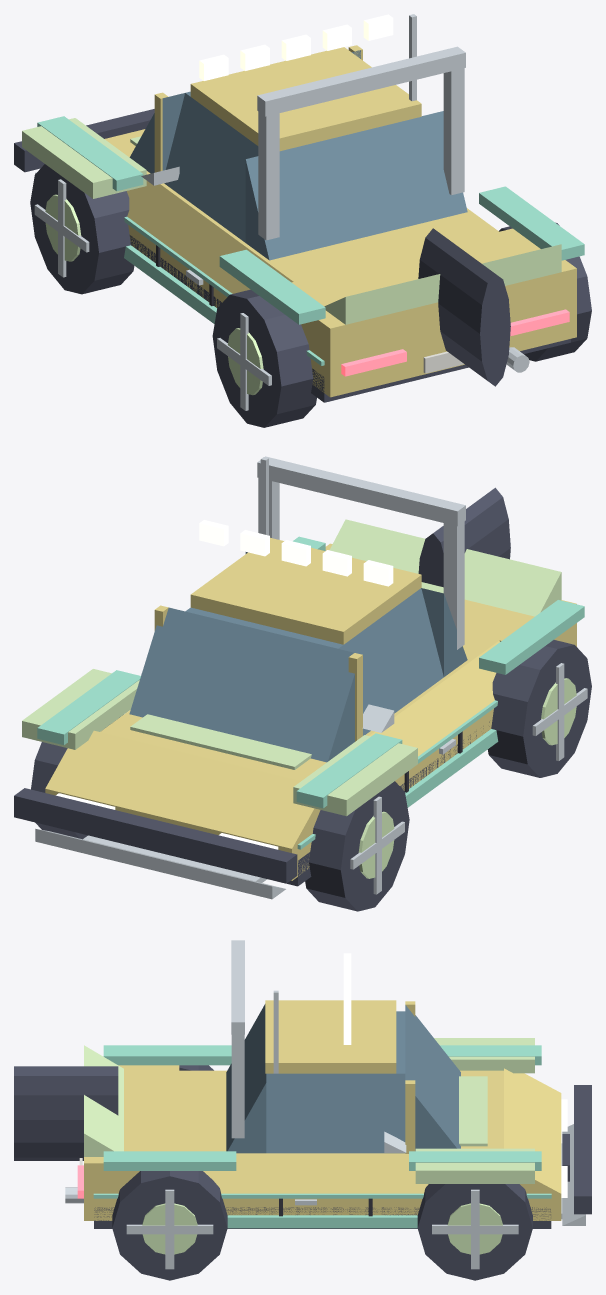
Rendered from eagle_pass.glb.
3 views of the same model, one above another, from view 1: azimuth 30°, elevation 25°; view 2: azimuth 150°, elevation 25°; view 3: azimuth 270°, elevation 25° (orthographic). The views are drawn at different scales.
Visible parts, largest first — view 1: RearWindow.177, Tail.077, Roof.277, SpareTyre.024, Wheel_RL.237, CabinSideL.074, Wheel_FL.237, BodyUpper.074, Body.277, ShoulderL.074, Ducktail.057, RollBar.070 (+27 smaller); view 2: Windshield.177, Nose.074, Roof.277, BashBar.070, Wheel_RL.237, Ducktail.057, CabinSideL.074, Wheel_FL.237, ShoulderL.074, RollBar.070, SpareTyre.024, Bumper.273 (+32 smaller); view 3: CabinSideR.074, Roof.277, SpareTyre.024, ShoulderR.074, Wheel_RR.237, Wheel_FR.237, Tail.077, BodyUpper.074, Windshield.177, Nose.074, Body.277, RearWindow.177 (+24 smaller).
Boxes of the visible parts, x1,y1,x2,y2 form: RearWindow.177: [245, 111, 467, 260]; Tail.077: [291, 228, 576, 365]; Roof.277: [190, 47, 421, 151]; SpareTyre.024: [418, 228, 510, 386]; Wheel_RL.237: [212, 289, 316, 427]; CabinSideL.074: [164, 93, 258, 242]; Wheel_FL.237: [30, 164, 134, 294]; BodyUpper.074: [104, 129, 498, 281]; Body.277: [128, 225, 576, 397]; ShoulderL.074: [126, 181, 293, 293]; Ducktail.057: [324, 244, 561, 324]; RollBar.070: [257, 46, 465, 116]; Windshield.177: [129, 607, 354, 762]; Nose.074: [45, 730, 320, 848]; Roof.277: [190, 537, 421, 644]; BashBar.070: [14, 788, 297, 883]; Wheel_RL.237: [487, 640, 591, 777]; Ducktail.057: [329, 519, 561, 616]; CabinSideL.074: [338, 588, 443, 735]; Wheel_FL.237: [305, 781, 409, 911]; ShoulderL.074: [369, 640, 499, 756]; RollBar.070: [257, 456, 465, 526]; SpareTyre.024: [418, 487, 510, 587]; Bumper.273: [35, 828, 285, 899]; CabinSideR.074: [266, 1073, 405, 1153]; Roof.277: [265, 1000, 396, 1073]; SpareTyre.024: [14, 1066, 118, 1160]; ShoulderR.074: [203, 1154, 428, 1193]; Wheel_RR.237: [112, 1171, 227, 1280]; Wheel_FR.237: [417, 1184, 532, 1280]; Tail.077: [84, 1065, 179, 1193]; BodyUpper.074: [179, 1070, 503, 1154]; Windshield.177: [405, 1005, 460, 1150]; Nose.074: [504, 1068, 561, 1193]; Body.277: [84, 1193, 561, 1220]; RearWindow.177: [226, 1004, 266, 1153].
Size of the model in its own units: 3.16 by 2.84 by 5.81.
